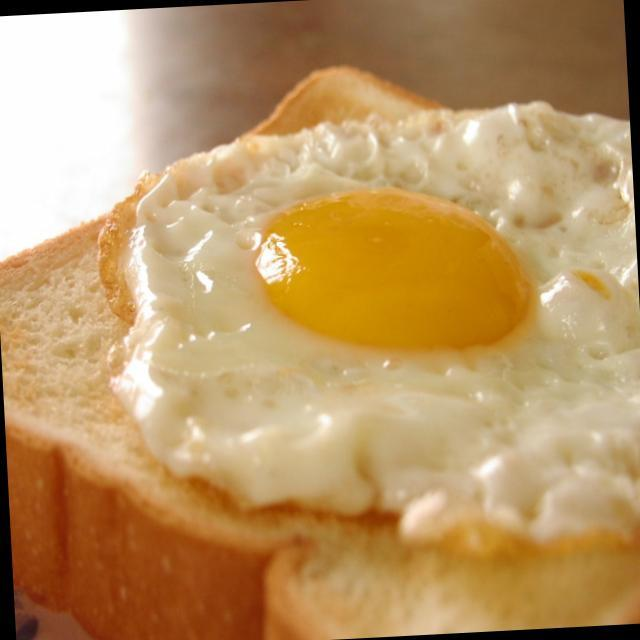Egg: (49, 77, 640, 549)
